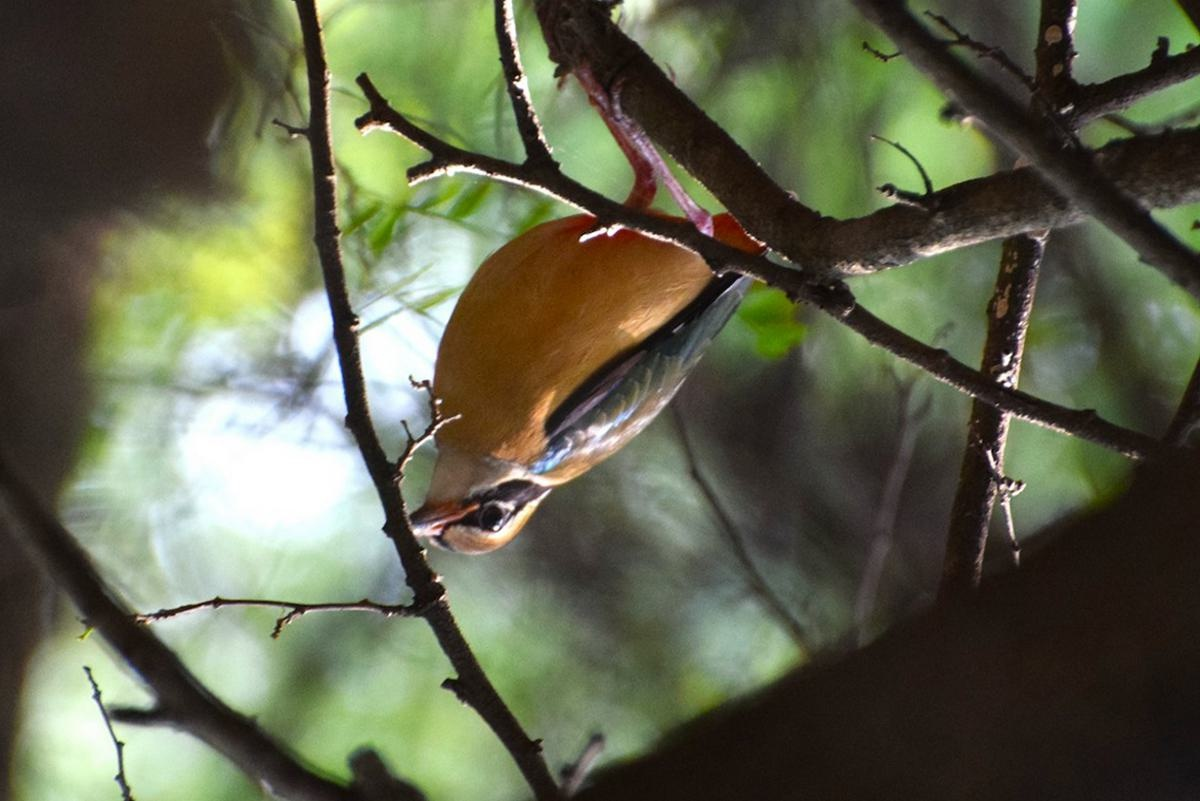pitta: (381, 178, 828, 568)
